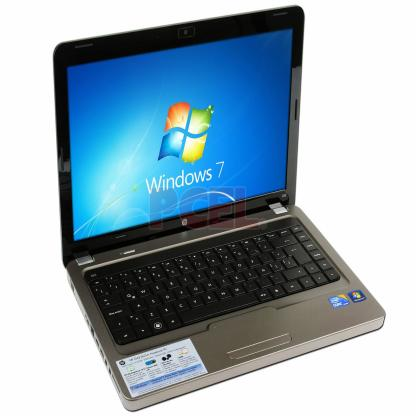NOTEBOOK: (36, 15, 416, 416)
